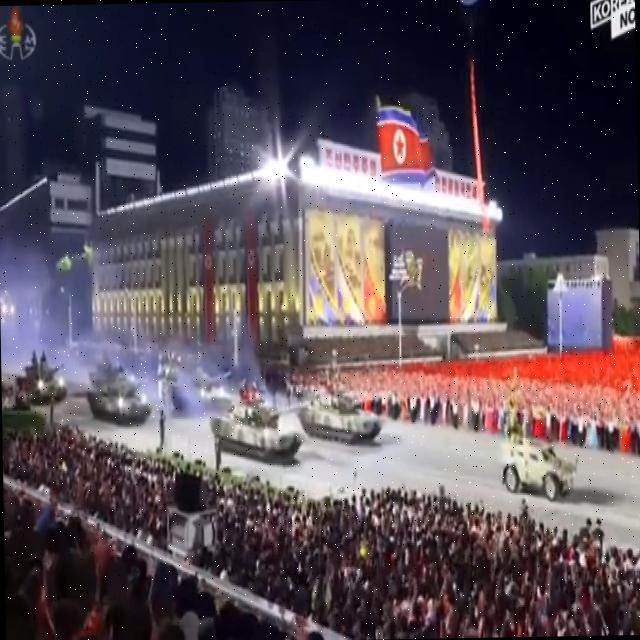north tank: (470, 412, 584, 528), (205, 362, 322, 474), (299, 360, 403, 476), (86, 358, 164, 434), (20, 350, 73, 422)
